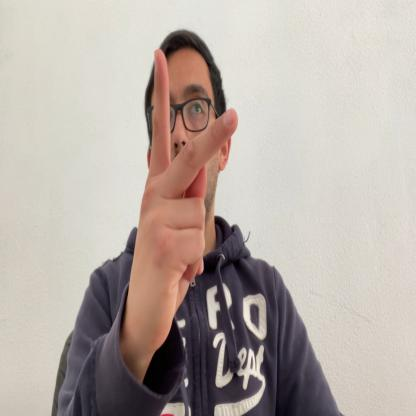P: (134, 47, 238, 355)
